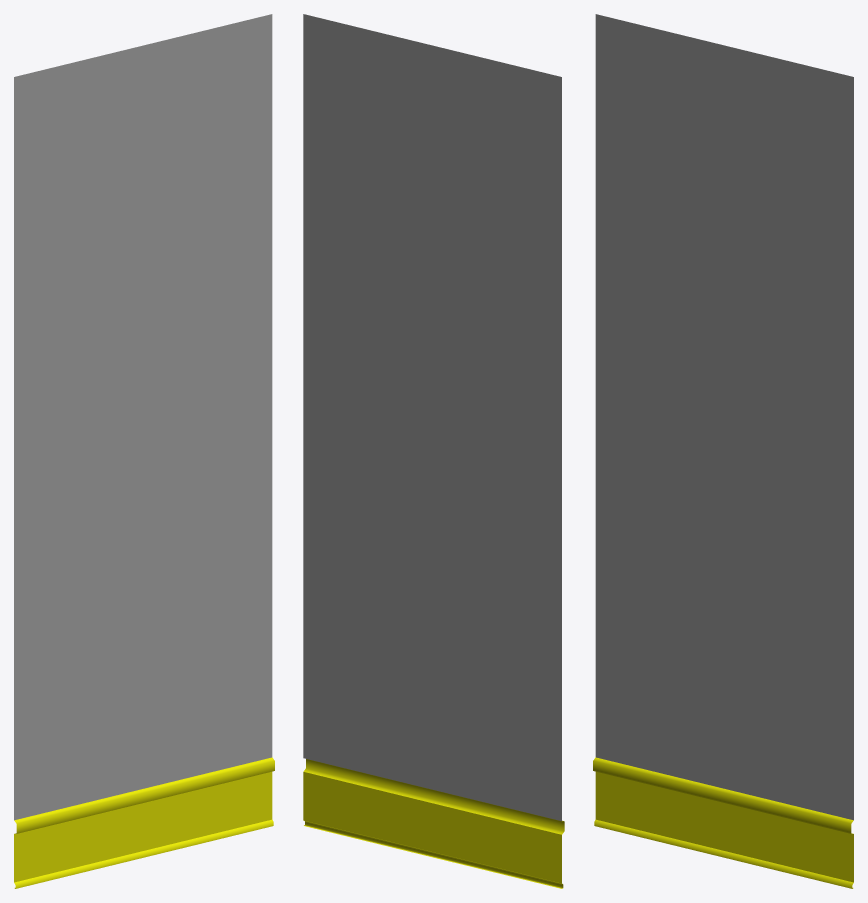
Rendered from sm_mansionWall_4x6.fbx.
3 renders of one model, left to right at view 1: azimuth 30°, elevation 25°; view 2: azimuth 150°, elevation 25°; view 3: azimuth 330°, elevation 25°, orthographic.
Parts seen in each view (by area): view 1: sm_mansionWall_4x6; view 2: sm_mansionWall_4x6; view 3: sm_mansionWall_4x6.
Part boxes in pixels (<box>): sm_mansionWall_4x6: <box>14,14,274,888</box>; sm_mansionWall_4x6: <box>303,14,564,888</box>; sm_mansionWall_4x6: <box>593,14,853,888</box>.
Size of the model in its own units: 400 by 1200 by 6.54.
